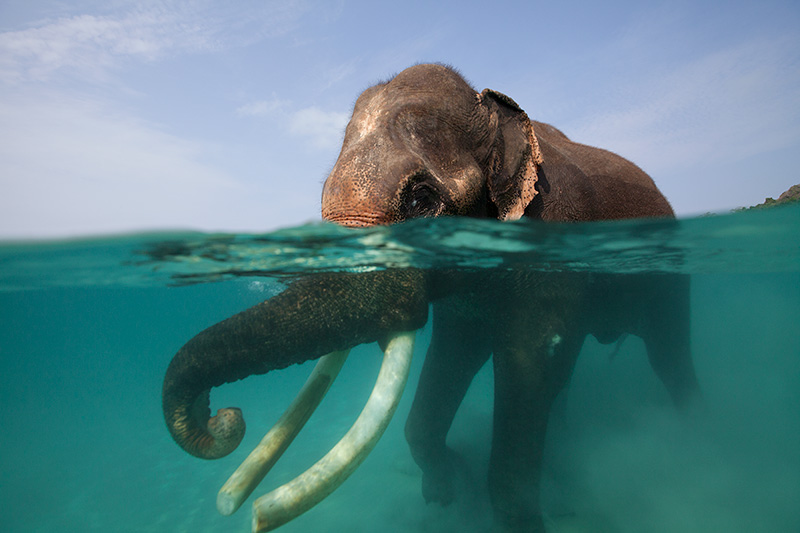elephant: (154, 58, 720, 530)
